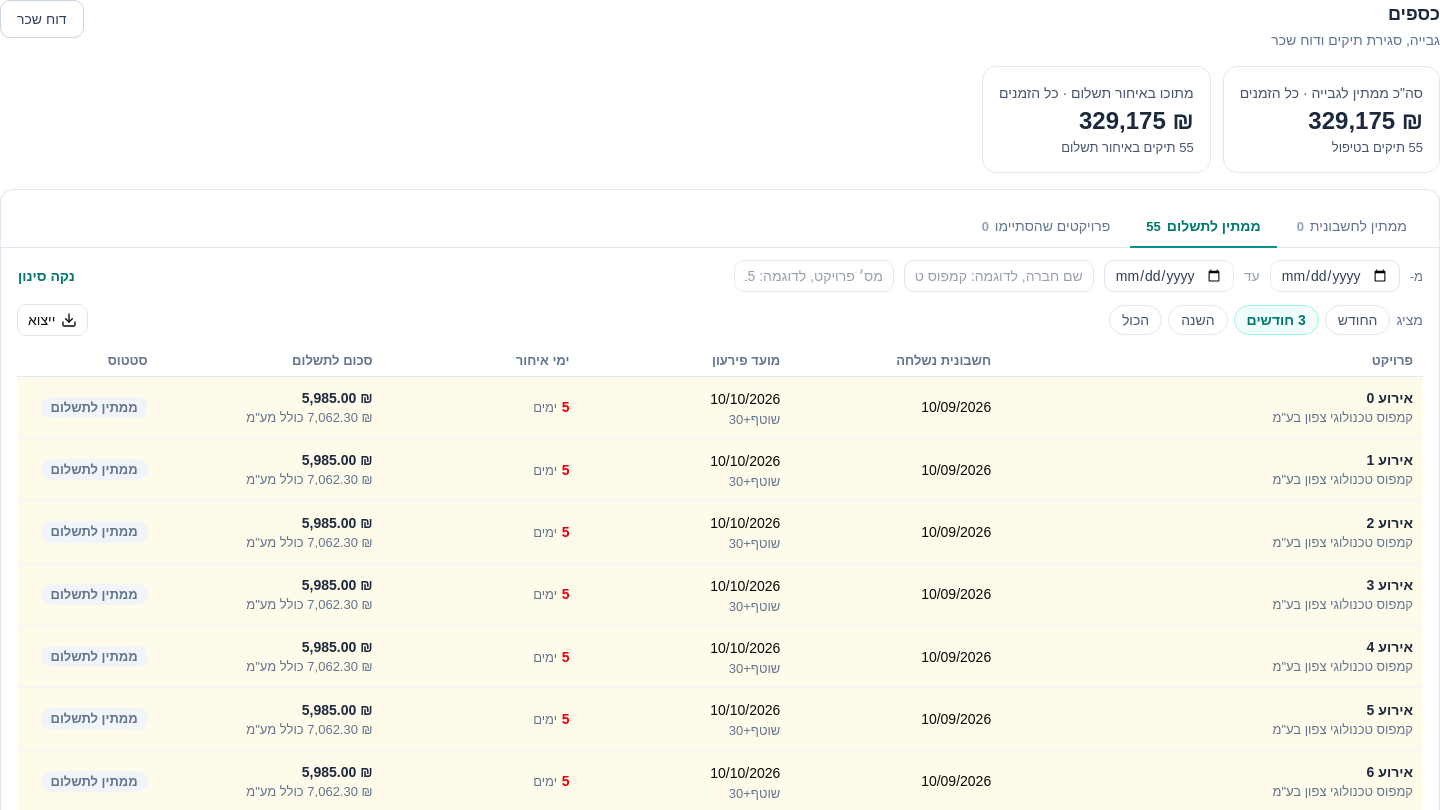
it: FinancePage — חיבור לחלון-הייצוא, ליבה פר-לשונית › שורת-הכמות סופרת את כל הלשונית שבמסנן — לא את עמוד-הדפדוף
Click the button with test id "finance-export-button".
click(53, 320)  # box [17,304,88,336]
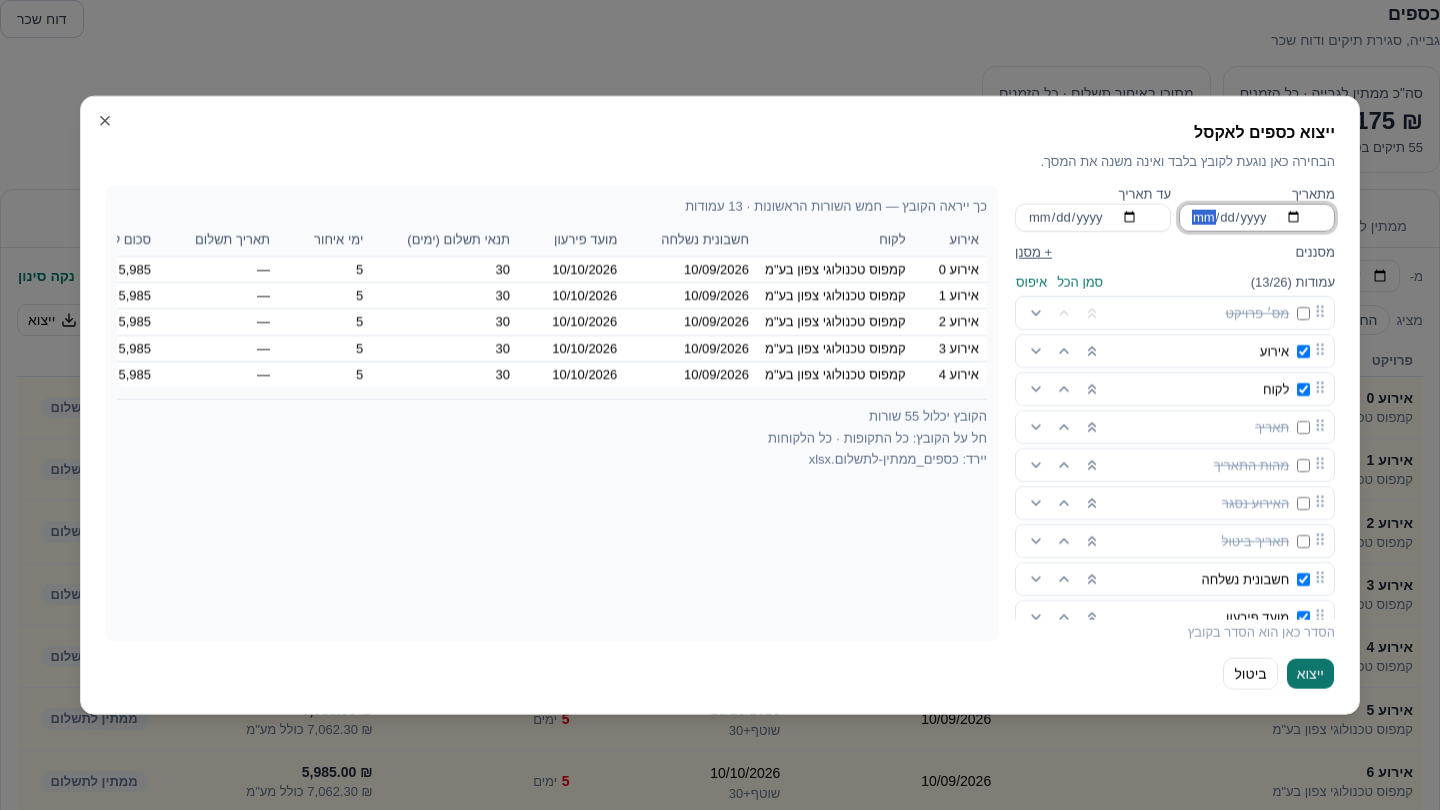
Expected: the text with test id "export-count" shows "55 שורות", [869,409,987,424]
